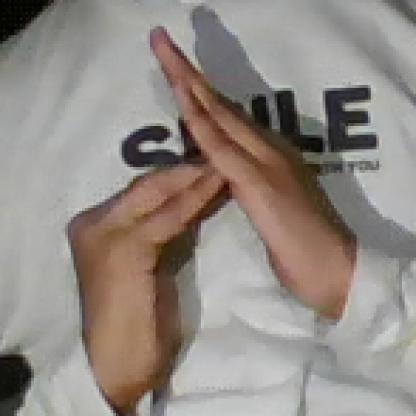Z: (54, 0, 348, 393)
